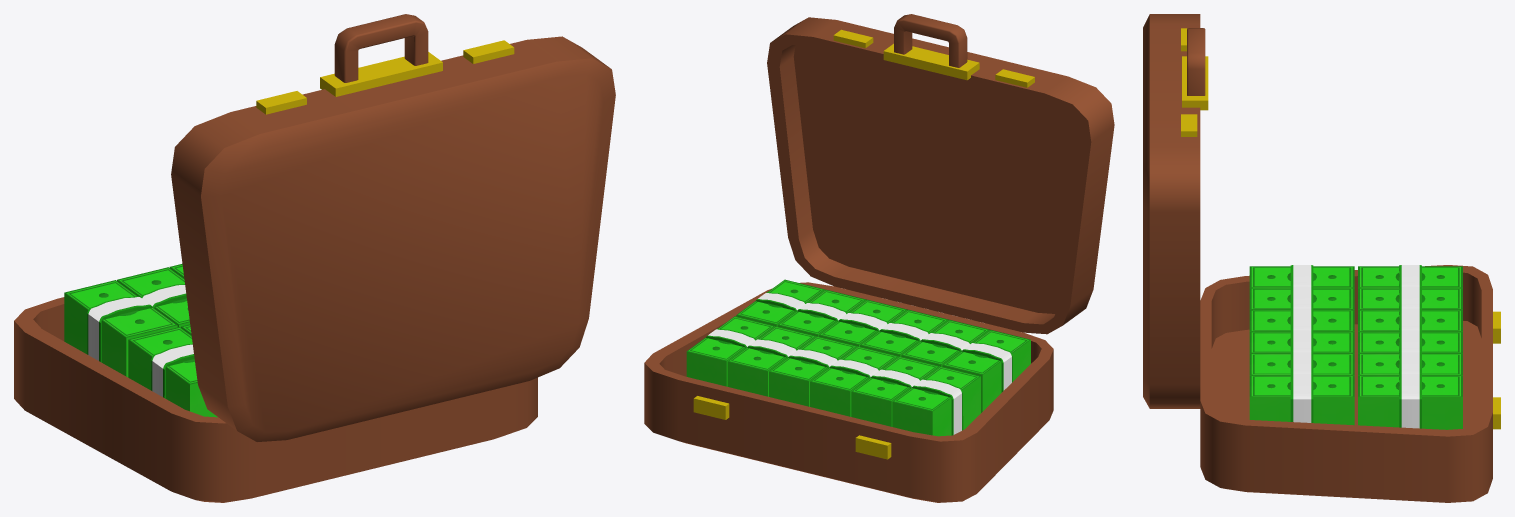
File: MoneyBriefcase.fbx
3 views of the same model, side by side, from view 1: azimuth 30°, elevation 25°; view 2: azimuth 150°, elevation 25°; view 3: azimuth 270°, elevation 25° (orthographic). The views are drawn at different scales.
Visible parts, largest first — view 1: MoneyBriefcase; view 2: MoneyBriefcase; view 3: MoneyBriefcase.
Part boxes in pixels (x1=…): MoneyBriefcase: x1=14, y1=14, x2=615, y2=502; MoneyBriefcase: x1=644, y1=14, x2=1114, y2=502; MoneyBriefcase: x1=1143, y1=14, x2=1500, y2=502.
Bounding box in the file's own units: 68.07 × 70.7 × 59.91.
